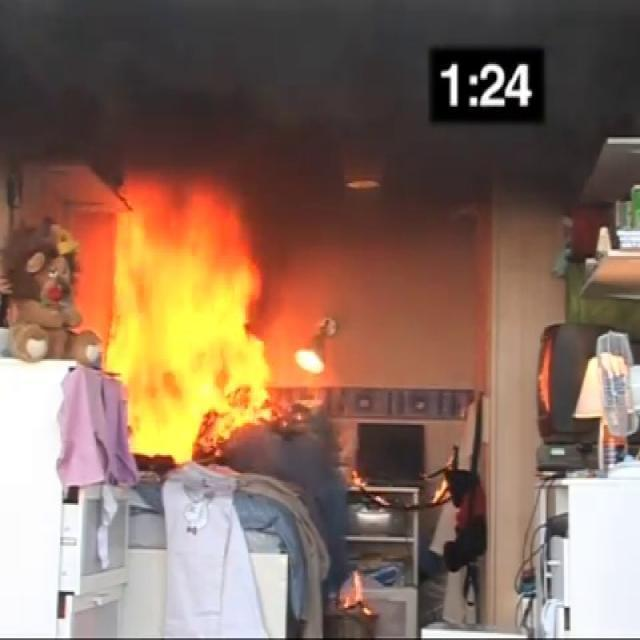Fire: (100, 175, 273, 470)
Smoke: (0, 4, 405, 165), (291, 158, 489, 274), (443, 134, 590, 202), (554, 7, 632, 129)
